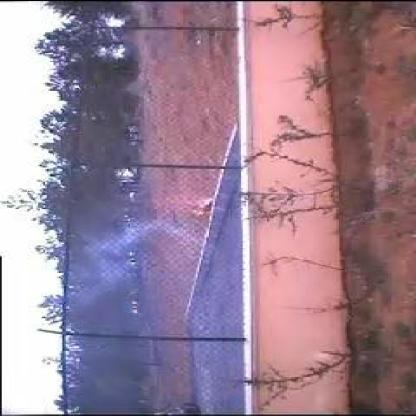-: (71, 214, 241, 329)
